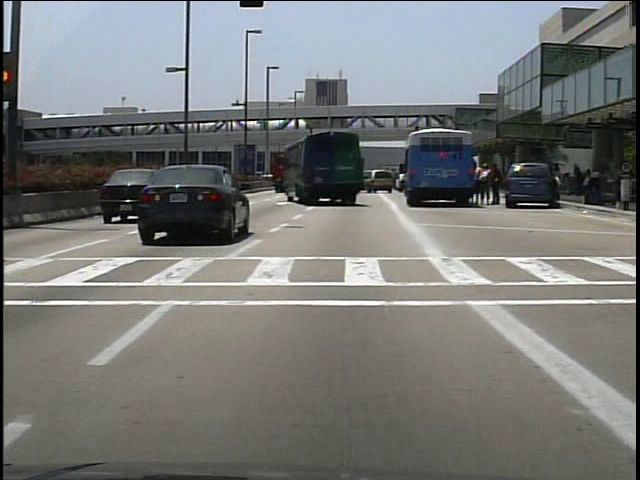person: (474, 160, 490, 206), (487, 163, 501, 207), (552, 166, 565, 205)
